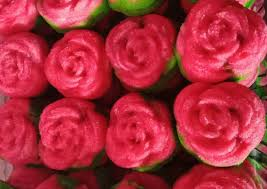rose: (0, 1, 262, 188)
